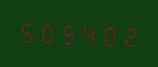five: (17, 17, 36, 45), (58, 19, 77, 46)
four: (78, 19, 97, 47)
two: (118, 21, 137, 49)
zero: (37, 18, 56, 46), (98, 20, 117, 48)
